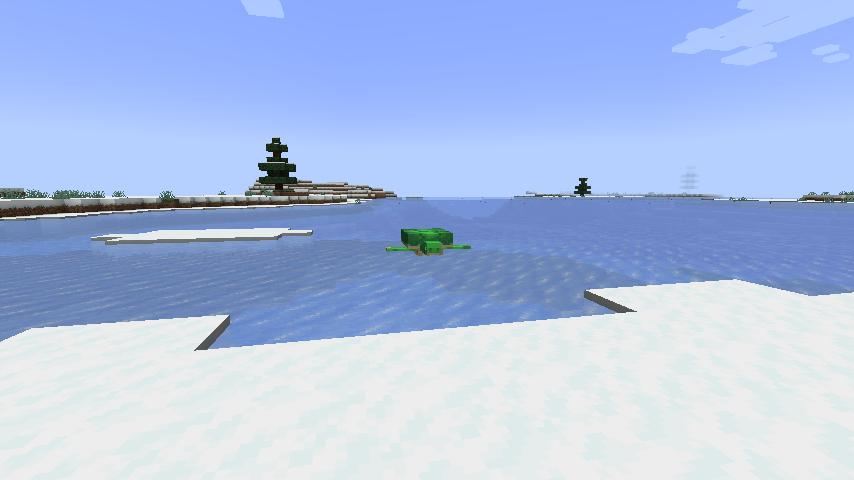turtle: (384, 221, 474, 261)
